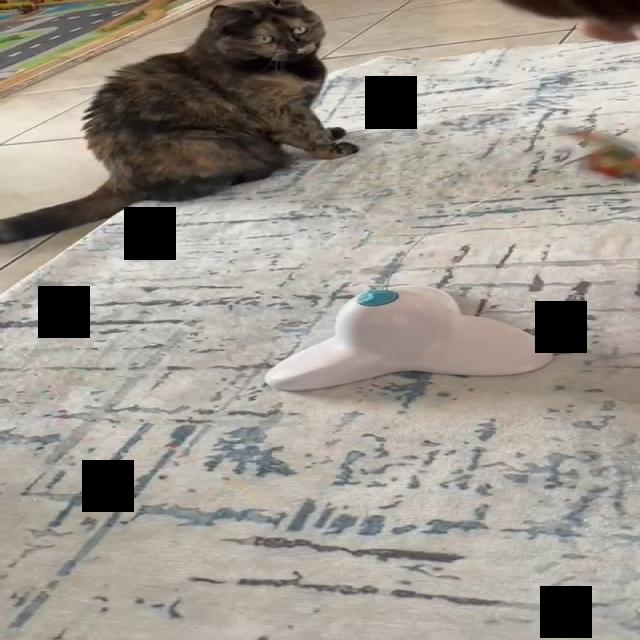authorized: (0, 0, 359, 245)
